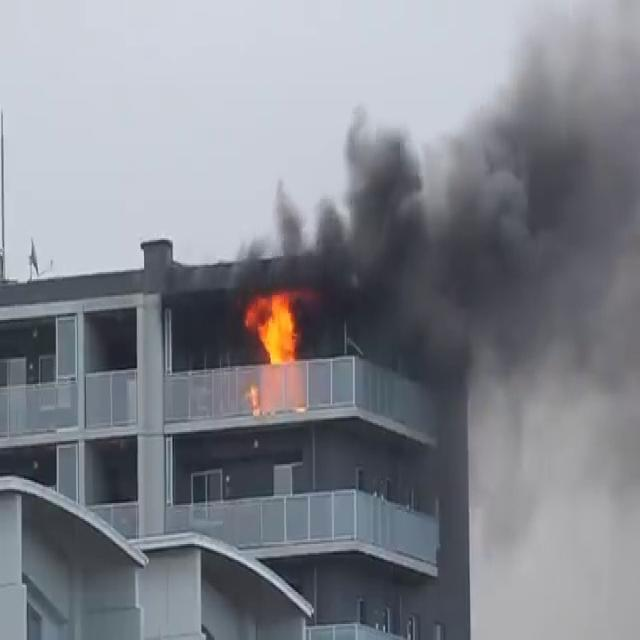Fire: (241, 284, 304, 371)
Smoke: (236, 30, 640, 400)
